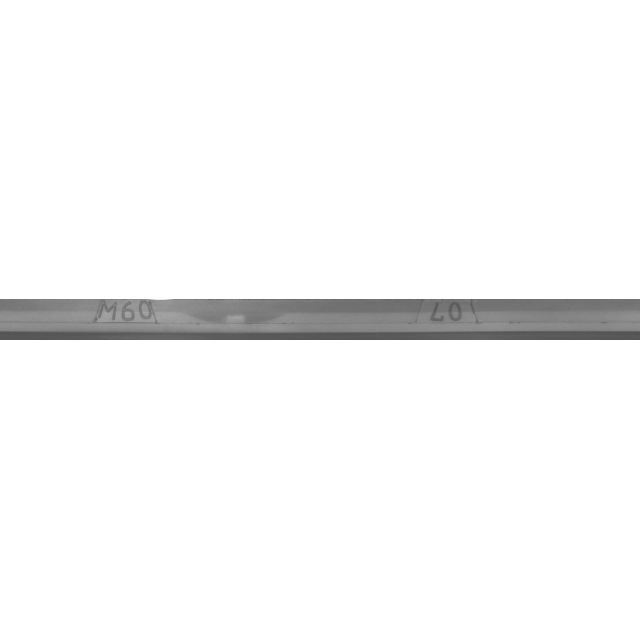mohao: (27, 270, 227, 370)
xuehao: (346, 270, 546, 370)
